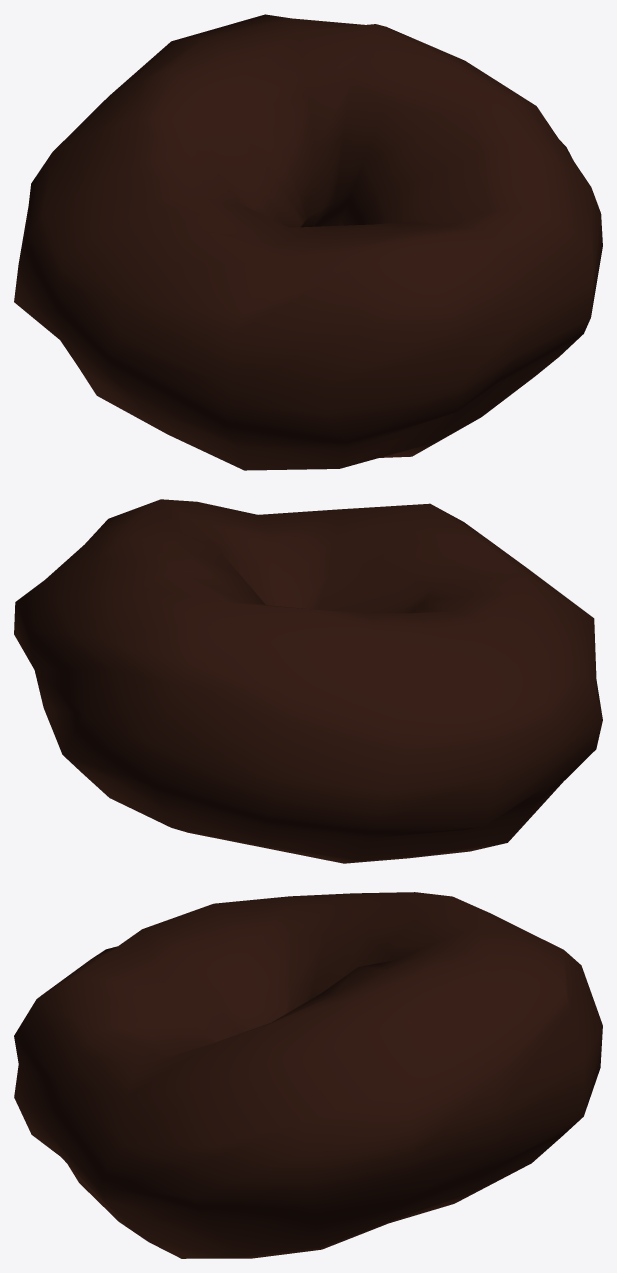
File: ChocoDonut.glb
3 views of the same model, one above another, from view 1: azimuth 30°, elevation 25°; view 2: azimuth 150°, elevation 25°; view 3: azimuth 270°, elevation 25° (orthographic).
Visible parts, largest first — view 1: ChocolateDonut; view 2: ChocolateDonut; view 3: ChocolateDonut.
Boxes of the visible parts, x1,y1,x2,y2 form: ChocolateDonut: (14,14,602,470); ChocolateDonut: (14,499,602,863); ChocolateDonut: (14,892,602,1258).
Size of the model in its own units: 0.4515 by 0.25 by 0.4535.
